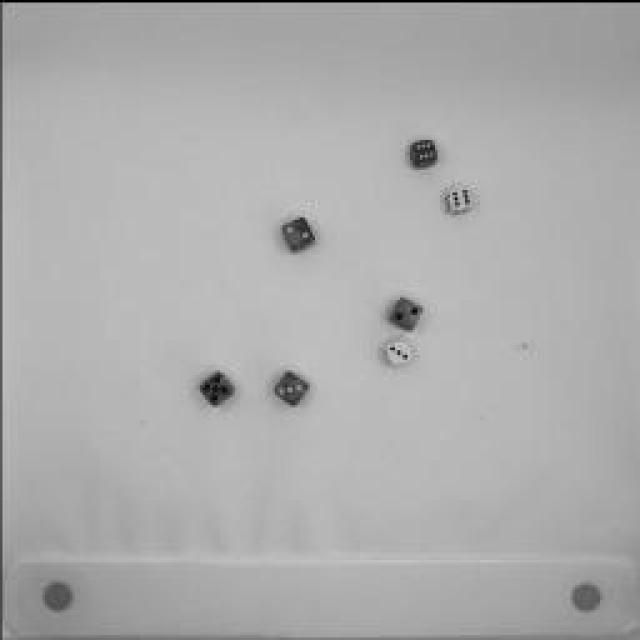dice_2: (385, 291, 425, 331), (279, 212, 316, 252)
dice_3: (268, 366, 312, 409), (378, 335, 412, 370)
dice_5: (195, 362, 235, 408)
dice_6: (402, 131, 440, 169), (442, 184, 472, 214)
